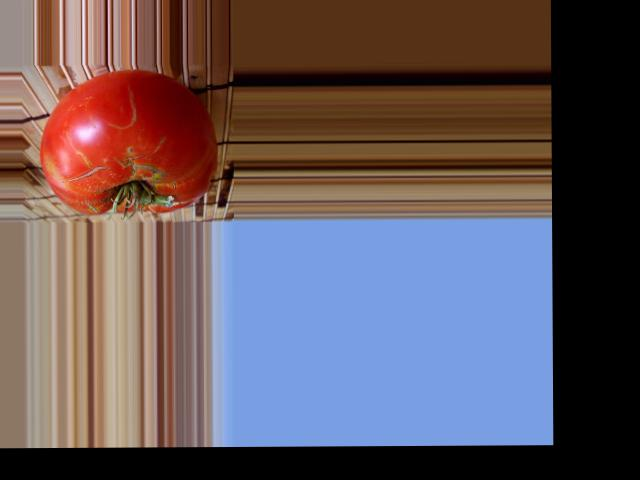tomato: (40, 71, 218, 214)
